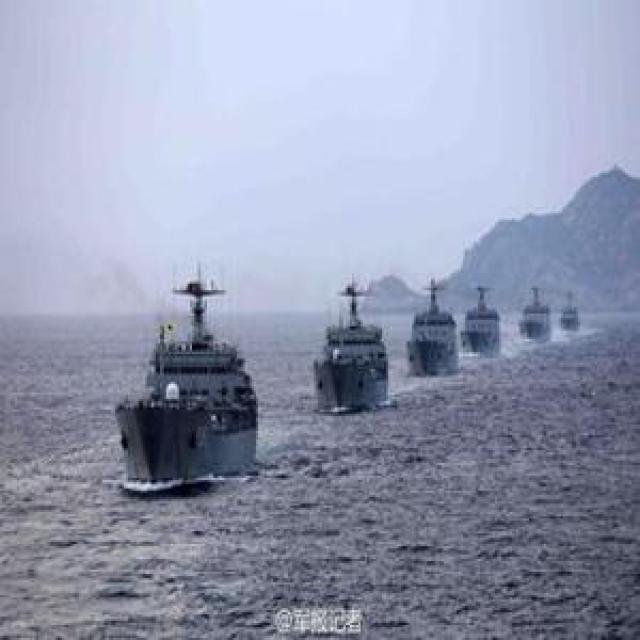navalvessels: (115, 264, 261, 484), (305, 271, 389, 406), (404, 273, 459, 379), (462, 278, 501, 361), (516, 280, 552, 342), (559, 290, 581, 332)
